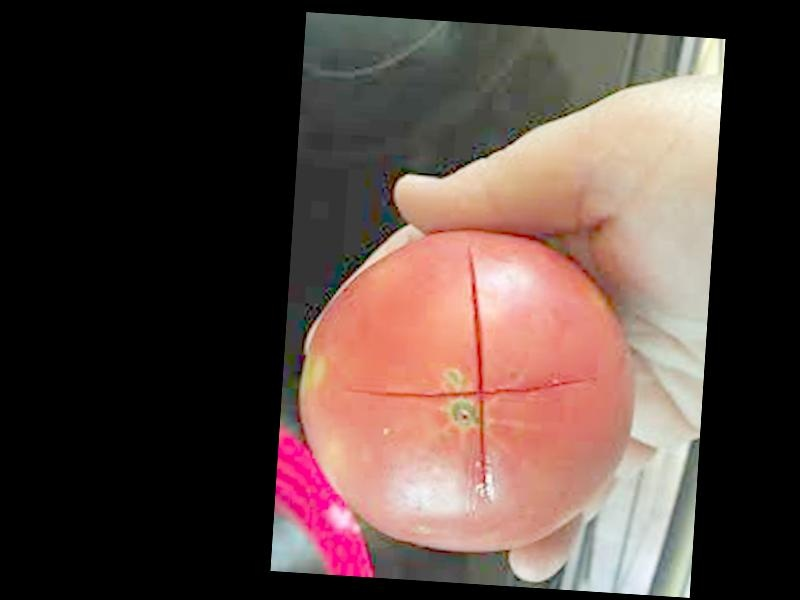Tomato: (299, 236, 645, 564)
